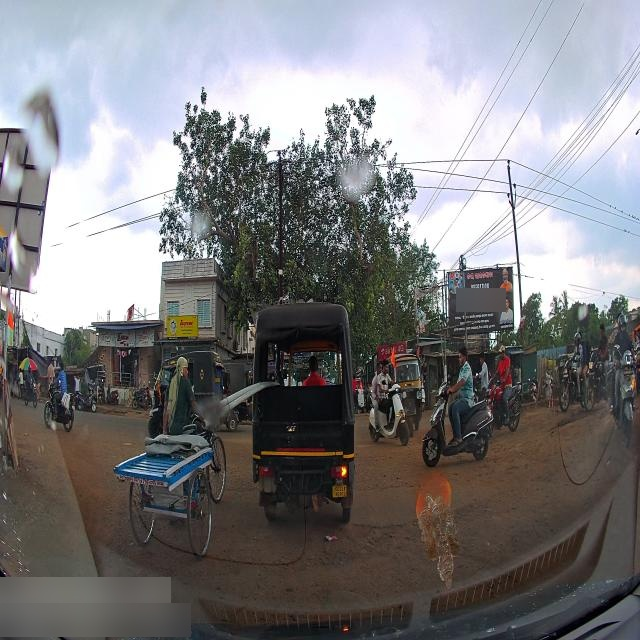pothole: (312, 511, 404, 559)
